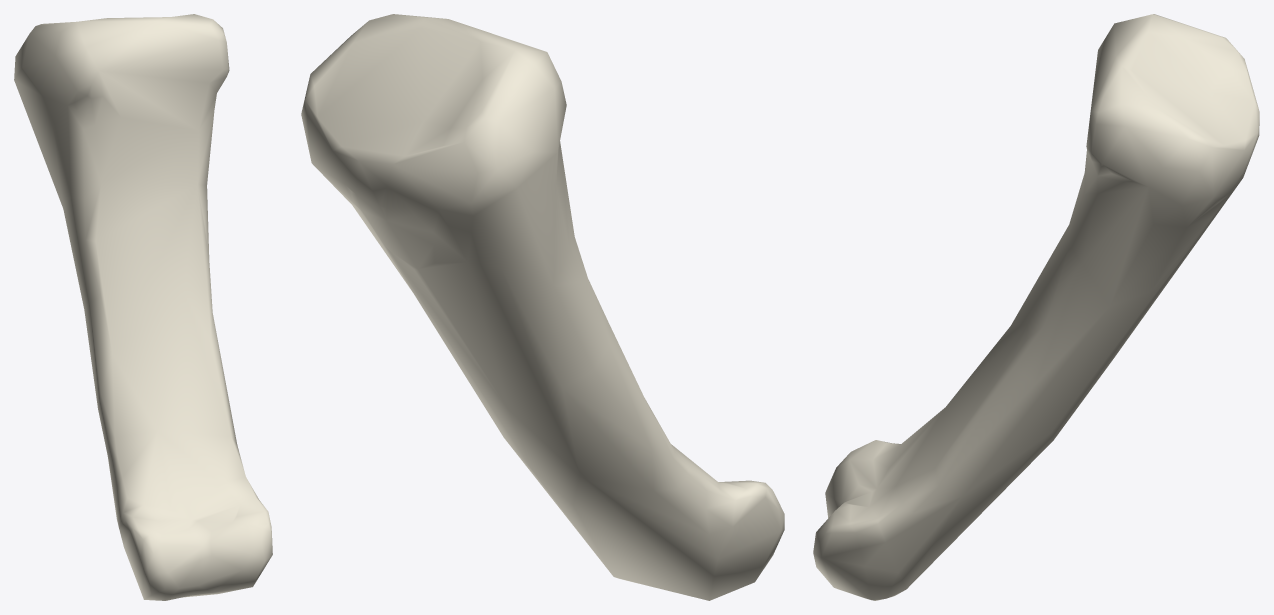
The picture shows the model from 3 angles, left to right: view 1: azimuth 30°, elevation 25°; view 2: azimuth 150°, elevation 25°; view 3: azimuth 270°, elevation 25°; orthographic projection. The views are drawn at different scales.
Parts seen in each view (by area): view 1: ZA_35f7092ca4daad4b; view 2: ZA_35f7092ca4daad4b; view 3: ZA_35f7092ca4daad4b.
Part boxes in pixels (x1,y1,x2,y2): ZA_35f7092ca4daad4b: (14,14,272,600); ZA_35f7092ca4daad4b: (301,14,784,600); ZA_35f7092ca4daad4b: (813,14,1259,600).
Size of the model in its own units: 0.019 by 0.0421 by 0.0302.
